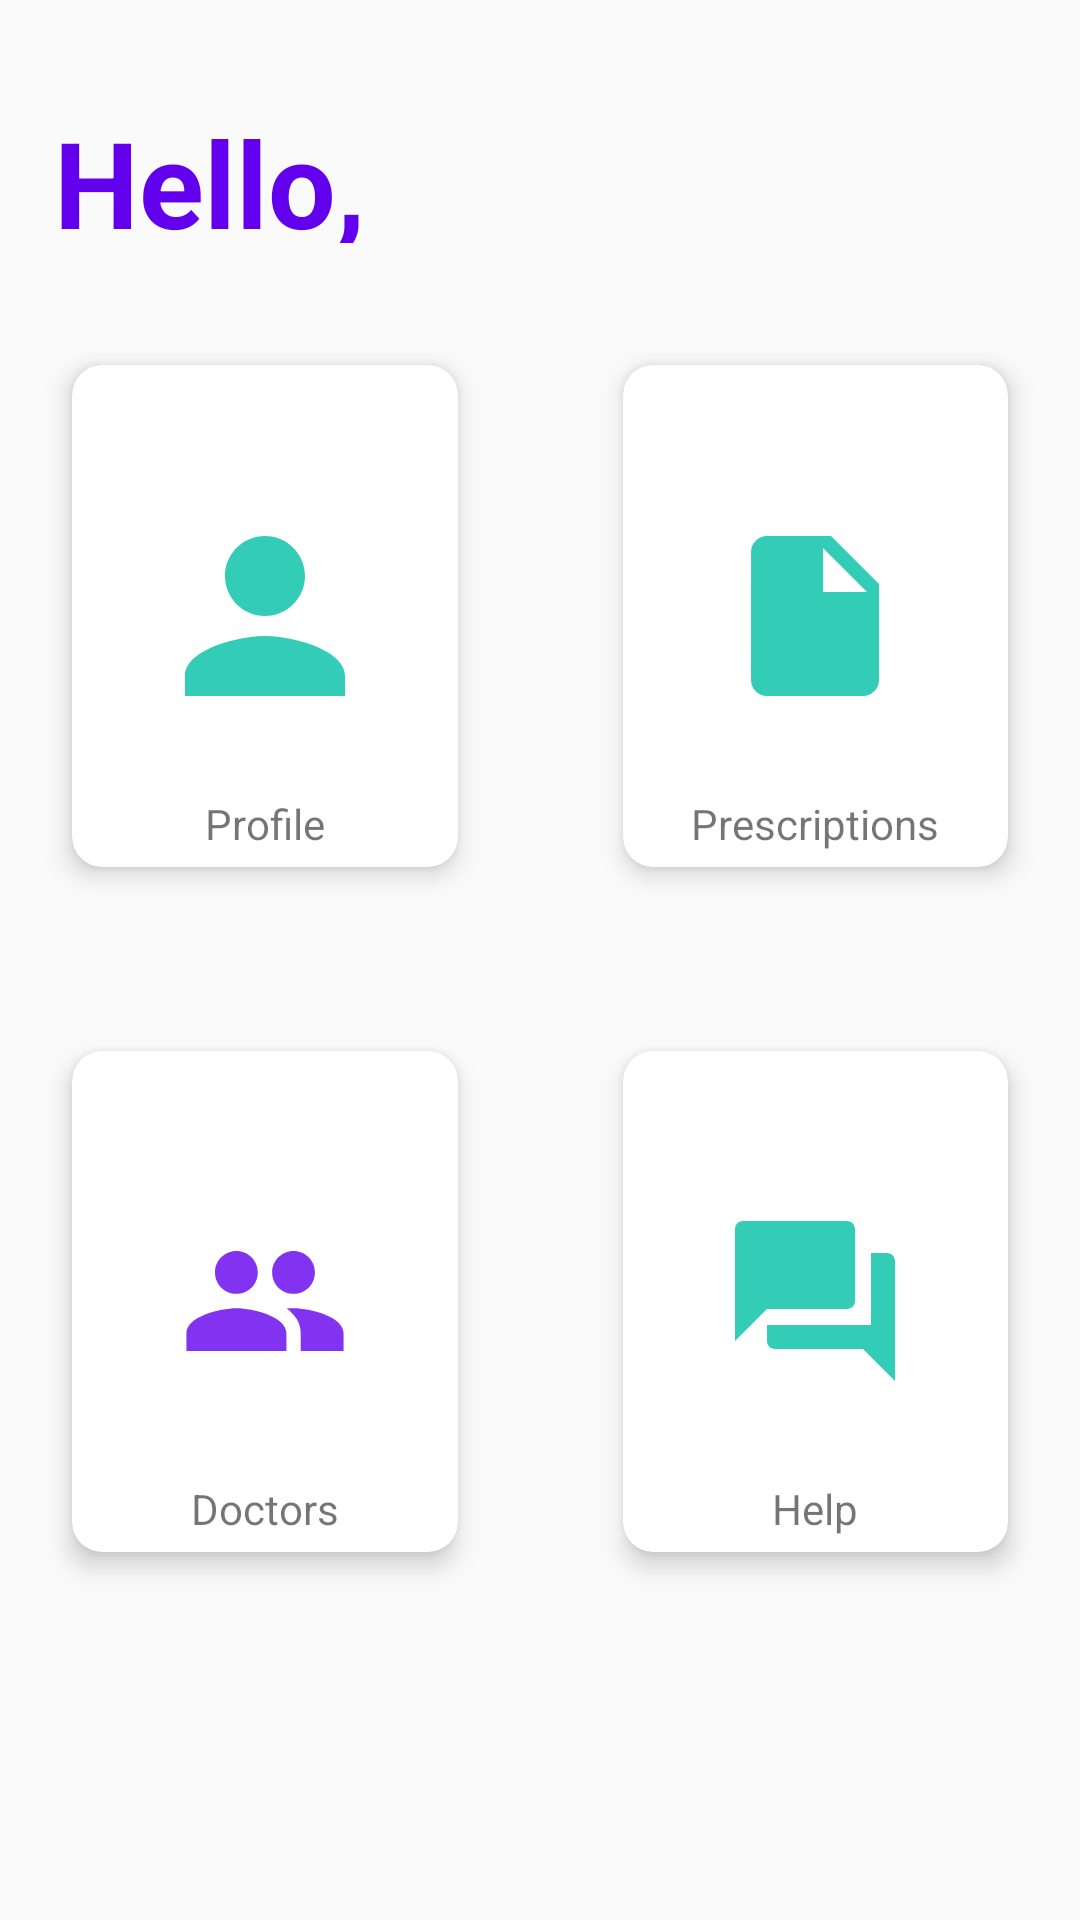

Where icons sit on this 1080 × 1920 app screen, as (x1, y1, x2, y2):
people: (186, 1251, 344, 1351)
person: (185, 536, 345, 696)
